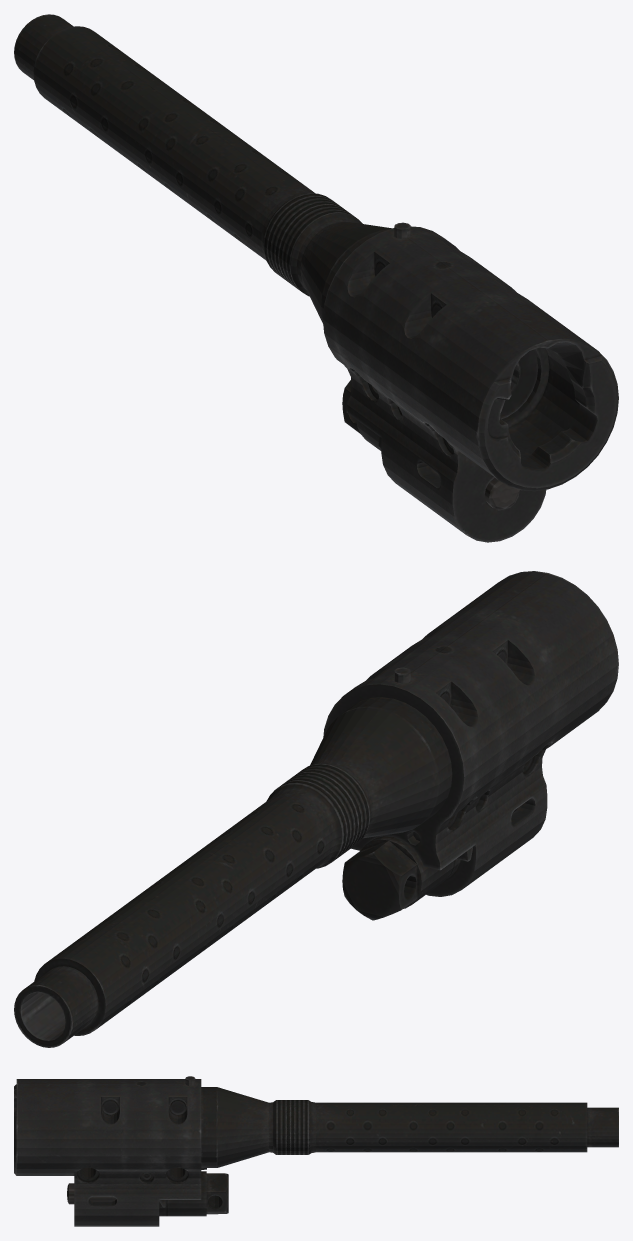
The picture shows the model from 3 angles, top to bottom: view 1: azimuth 30°, elevation 25°; view 2: azimuth 150°, elevation 25°; view 3: azimuth 270°, elevation 25°; orthographic projection. The views are drawn at different scales.
Visible parts, largest first — view 1: TW_58aeaaa886f7744fc1560f81_PZ_Import; view 2: TW_58aeaaa886f7744fc1560f81_PZ_Import; view 3: TW_58aeaaa886f7744fc1560f81_PZ_Import.
Boxes of the visible parts, box(x1,y1,x2,y2) form: TW_58aeaaa886f7744fc1560f81_PZ_Import: box(14, 14, 618, 542); TW_58aeaaa886f7744fc1560f81_PZ_Import: box(14, 571, 618, 1047); TW_58aeaaa886f7744fc1560f81_PZ_Import: box(14, 1076, 618, 1226).
Size of the model in its own units: 0.016 by 0.0992 by 0.0263.
Materials: 1 (1 with a texture image).
